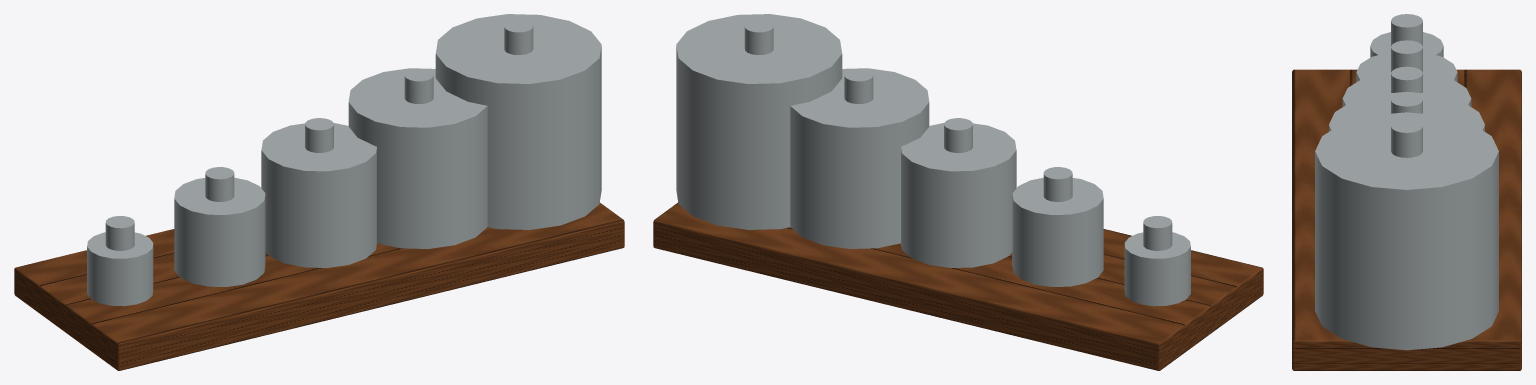
The model's file is research-and-crafting-progression-test-weight-set-65f5b35e__2856.glb.
3 renders of one model, left to right at view 1: azimuth 30°, elevation 25°; view 2: azimuth 150°, elevation 25°; view 3: azimuth 270°, elevation 25°, orthographic. The views are drawn at different scales.
Parts seen in each view (by area): view 1: test-weight-set; view 2: test-weight-set; view 3: test-weight-set.
Boxes of the visible parts, x1,y1,x2,y2 form: test-weight-set: (14,14,624,370); test-weight-set: (653,14,1263,370); test-weight-set: (1292,14,1521,370).
Size of the model in its own units: 0.29 by 0.104 by 0.1.
Materials: 2 (1 with a texture image).
